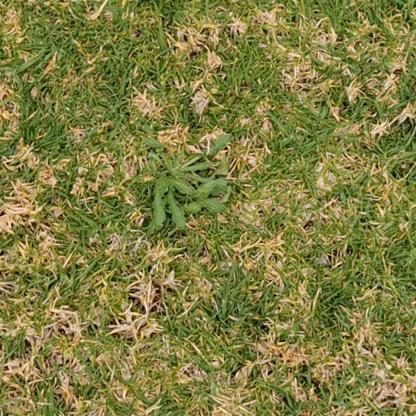Weeds: (143, 134, 234, 229)
